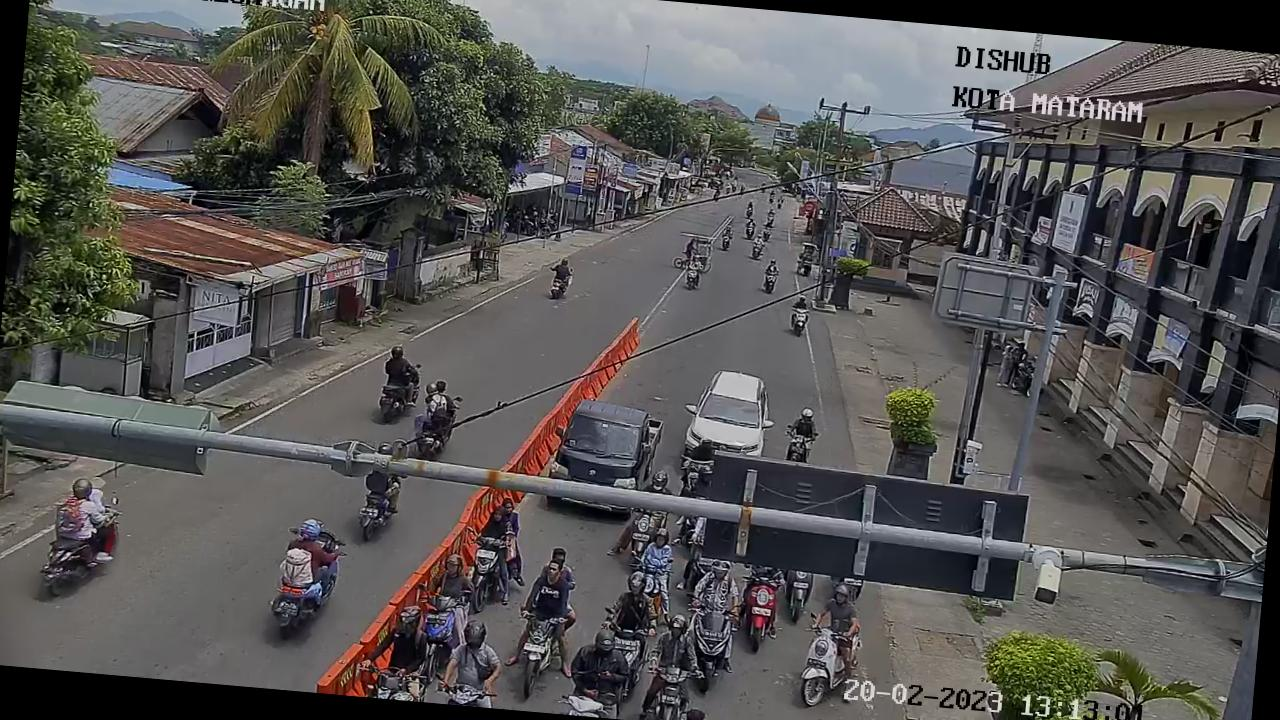car: (556, 400, 654, 490)
motorcycle: (671, 596, 741, 698), (500, 604, 568, 700), (452, 522, 518, 620), (730, 564, 789, 656), (794, 619, 850, 708), (639, 655, 703, 720), (412, 588, 472, 654), (775, 557, 826, 634), (598, 612, 652, 681), (622, 509, 662, 570), (777, 420, 822, 470), (786, 304, 808, 340), (680, 264, 702, 293), (760, 270, 779, 295), (748, 240, 765, 263), (716, 235, 732, 253), (761, 229, 775, 246), (741, 225, 755, 241)
person: (273, 498, 352, 606), (42, 469, 116, 550), (442, 617, 508, 704), (566, 621, 630, 704), (520, 544, 580, 629), (682, 552, 746, 627), (597, 564, 660, 638), (646, 610, 706, 686), (376, 600, 436, 674), (421, 552, 478, 618), (812, 575, 862, 649), (408, 372, 462, 430), (634, 523, 678, 582), (472, 494, 514, 554), (378, 346, 422, 402), (779, 402, 820, 447), (681, 434, 717, 474), (550, 256, 574, 284), (789, 292, 809, 316), (763, 256, 781, 276), (684, 254, 700, 275), (720, 222, 733, 240), (744, 216, 758, 231), (752, 232, 765, 248), (744, 197, 755, 212), (764, 207, 776, 220)
